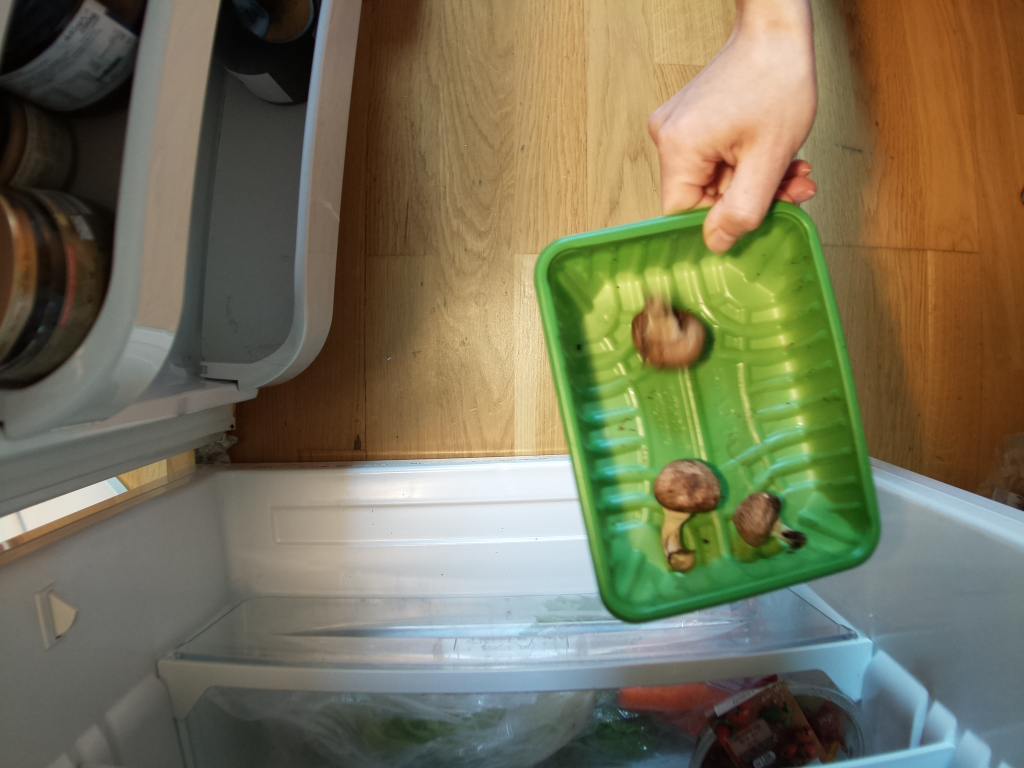mushrooms-bad: (539, 209, 885, 609)
